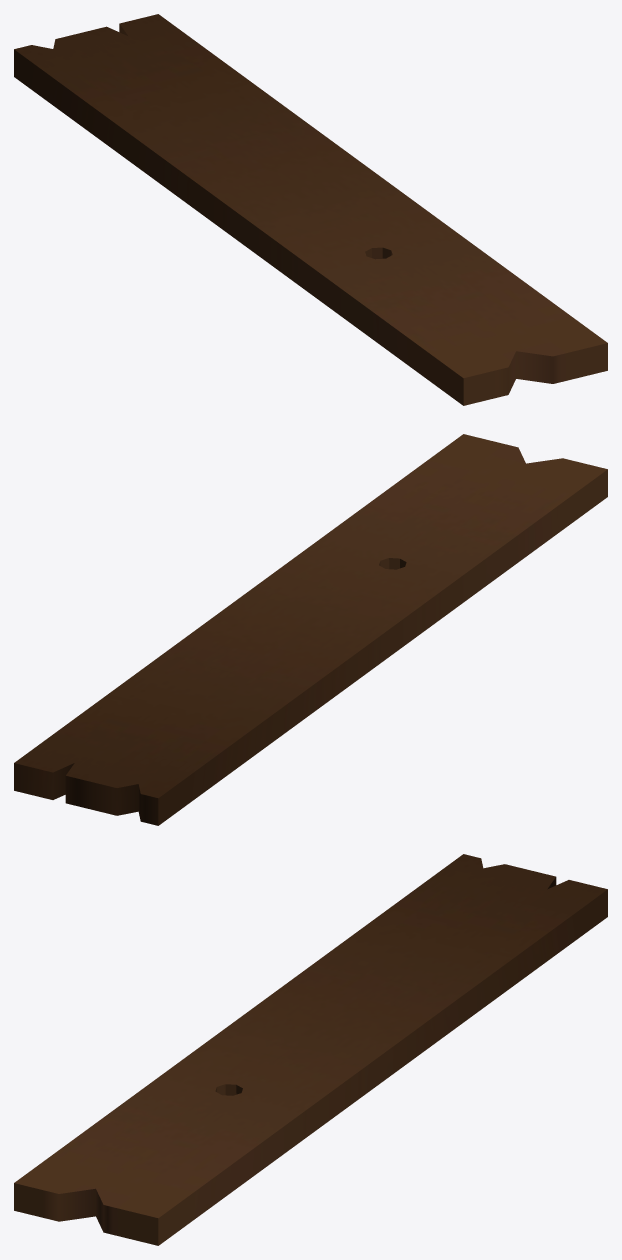
File: WoodenPlankos.fbx
3 views of the same model, one above another, from view 1: azimuth 30°, elevation 25°; view 2: azimuth 150°, elevation 25°; view 3: azimuth 330°, elevation 25° (orthographic).
Parts seen in each view (by area): view 1: WoodenPlankos; view 2: WoodenPlankos; view 3: WoodenPlankos.
Part boxes in pixels (x1,y1,x2,y2): WoodenPlankos: (14,14,607,405); WoodenPlankos: (14,434,607,825); WoodenPlankos: (14,854,607,1245).
Bounding box in the file's own units: 1 × 0.183 × 5.39.
